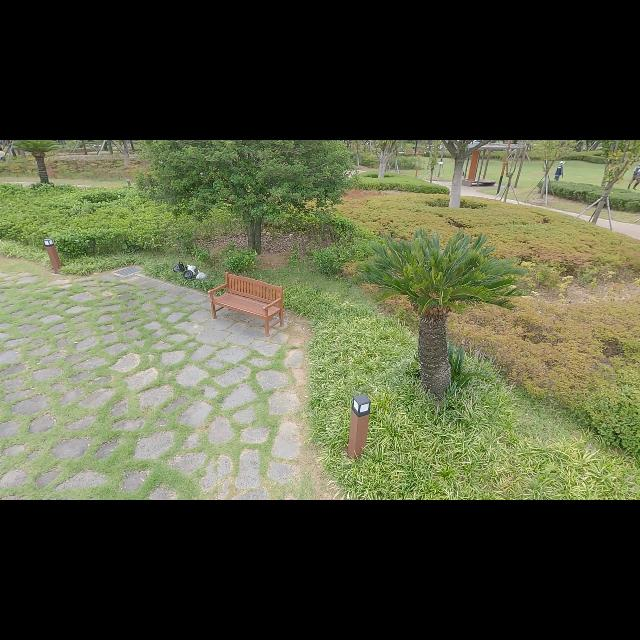trash: (173, 260, 185, 274), (186, 262, 198, 276), (195, 270, 208, 280), (183, 270, 193, 280)
